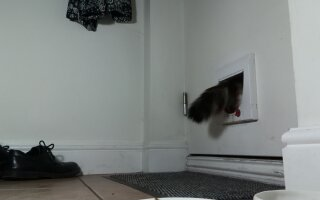clara: (182, 75, 246, 127)
